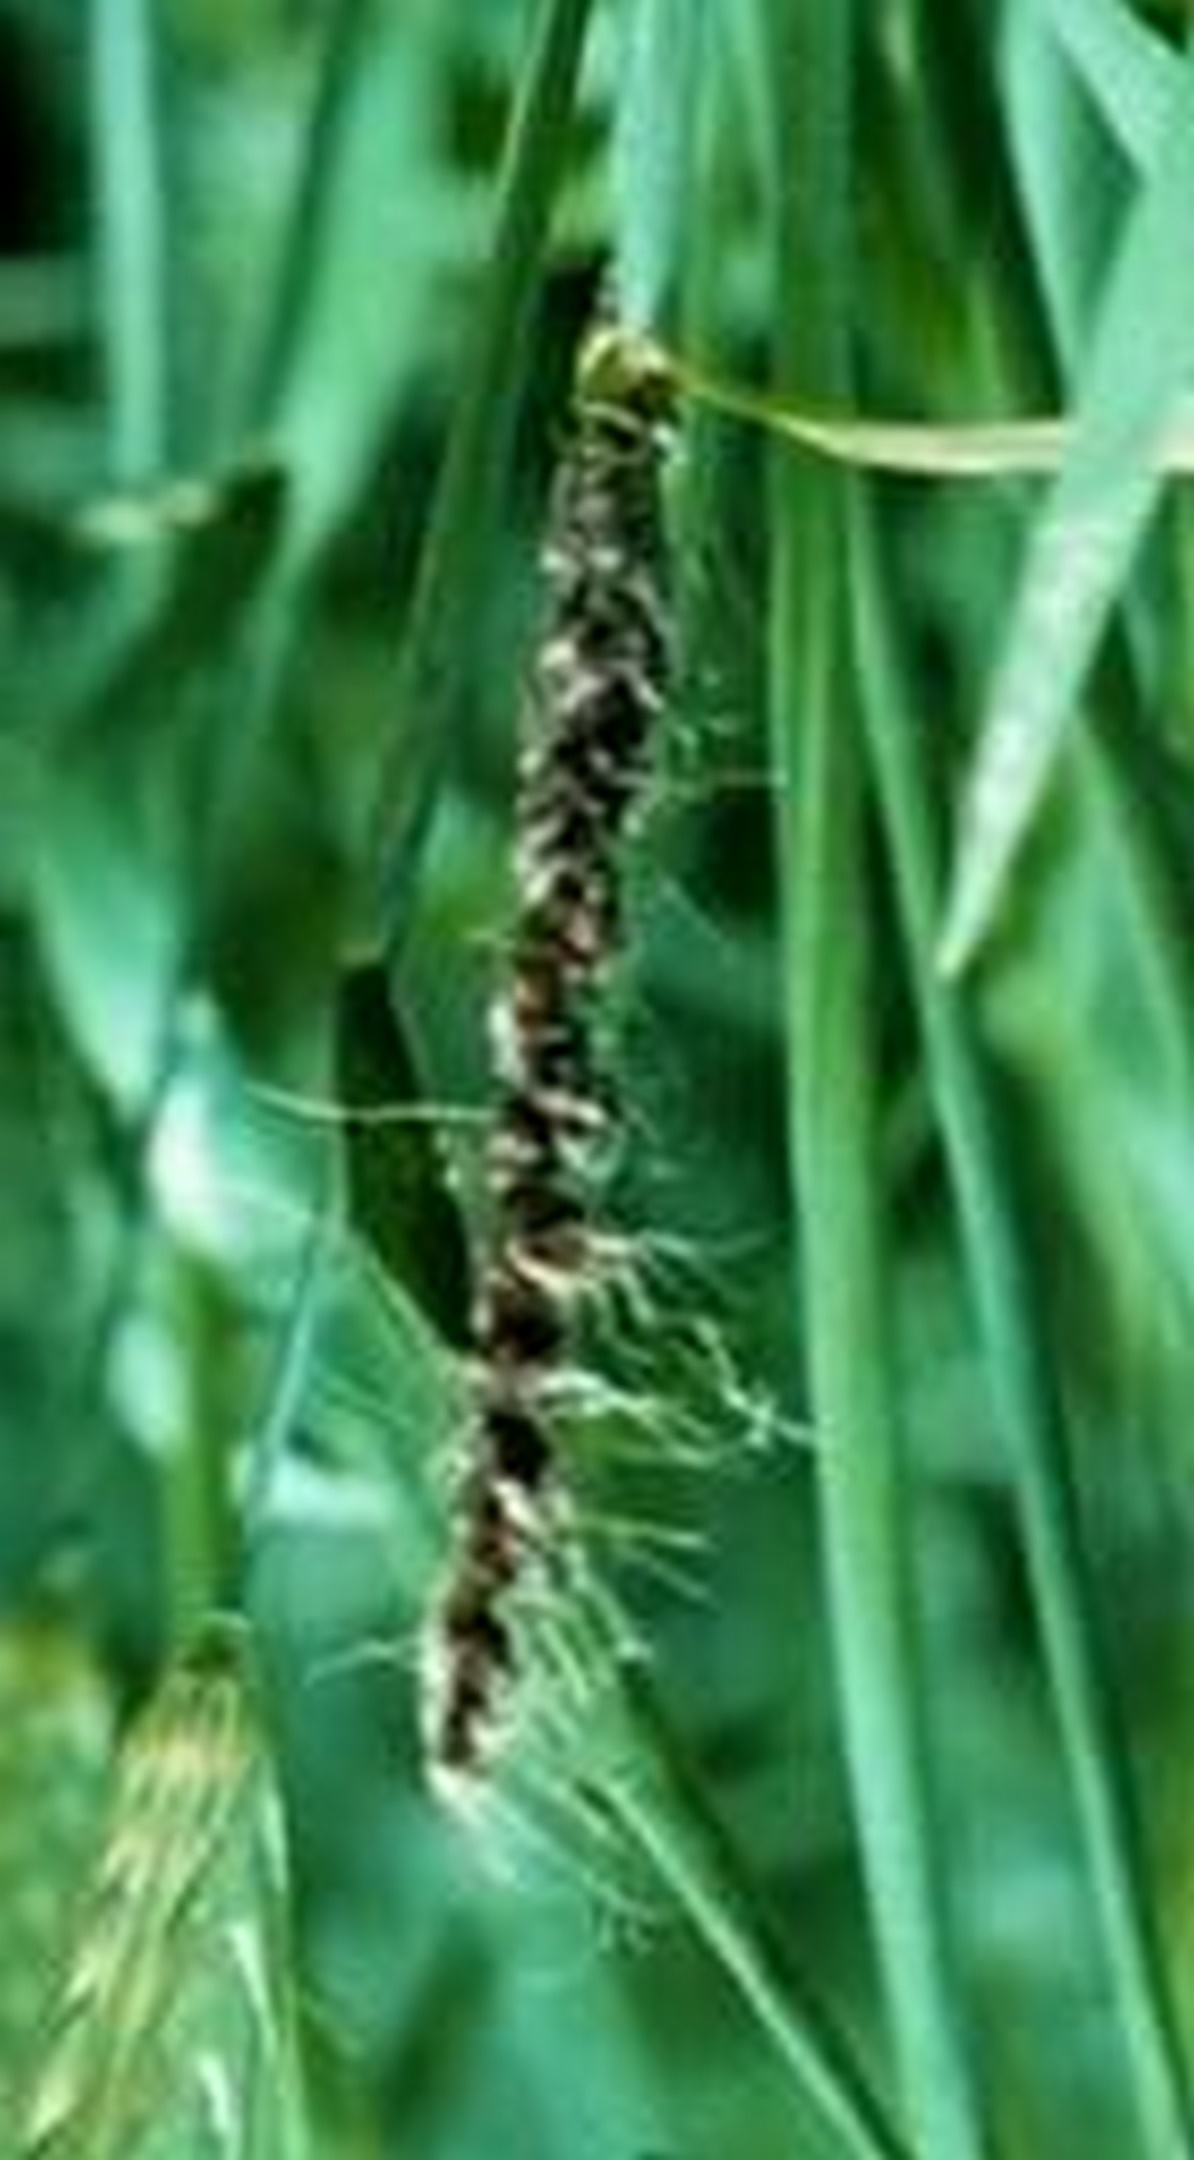Wheat Loose Smut: (400, 403, 696, 1753)
